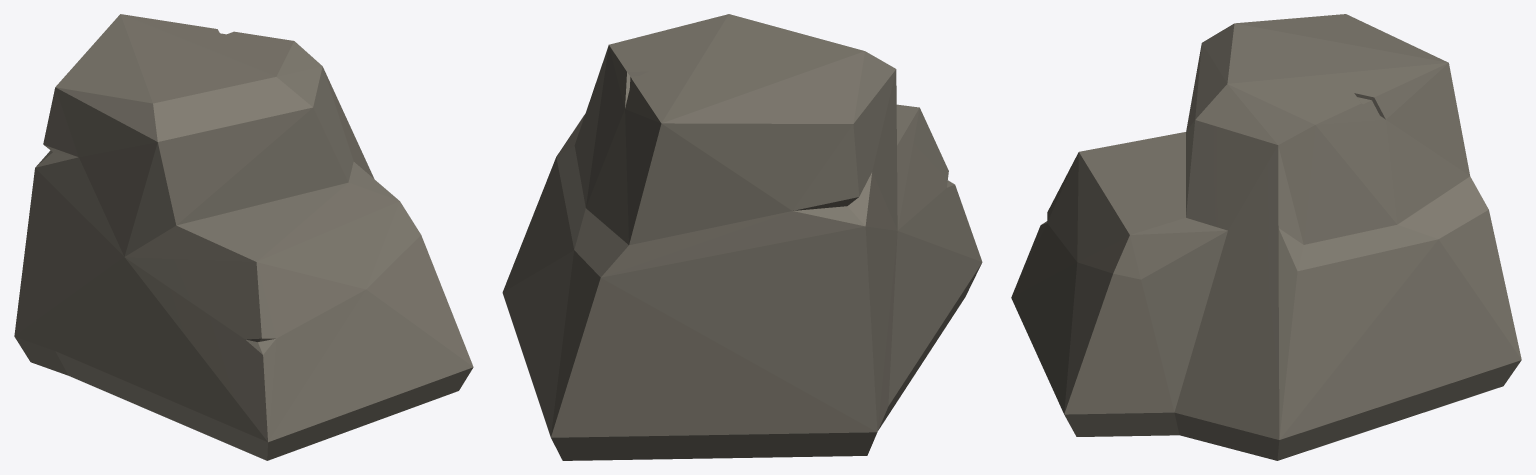
Rendered from rock__rock9_cave_light.glb.
3 renders of one model, left to right at view 1: azimuth 30°, elevation 25°; view 2: azimuth 150°, elevation 25°; view 3: azimuth 270°, elevation 25°, orthographic. The views are drawn at different scales.
Visible parts, largest first — view 1: rock9.cave.light; view 2: rock9.cave.light; view 3: rock9.cave.light.
Part boxes in pixels (x1,y1,x2,y2): rock9.cave.light: (14,14,473,460); rock9.cave.light: (502,14,982,460); rock9.cave.light: (1011,14,1521,460).
Size of the model in its own units: 2.32 by 1.76 by 2.73.
1 material, 1 textured.
